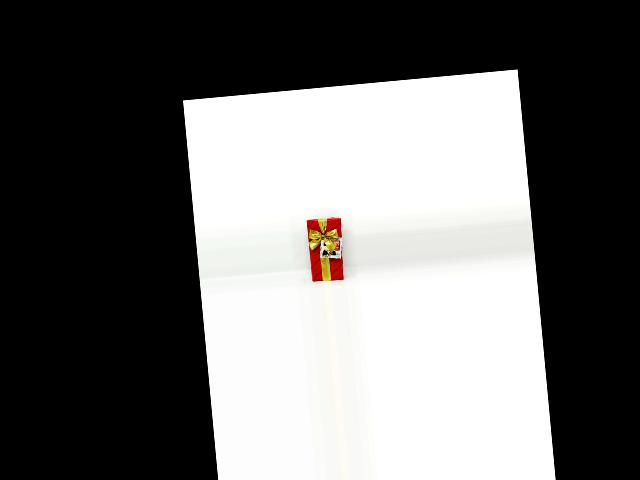chocolate: (303, 214, 346, 282)
